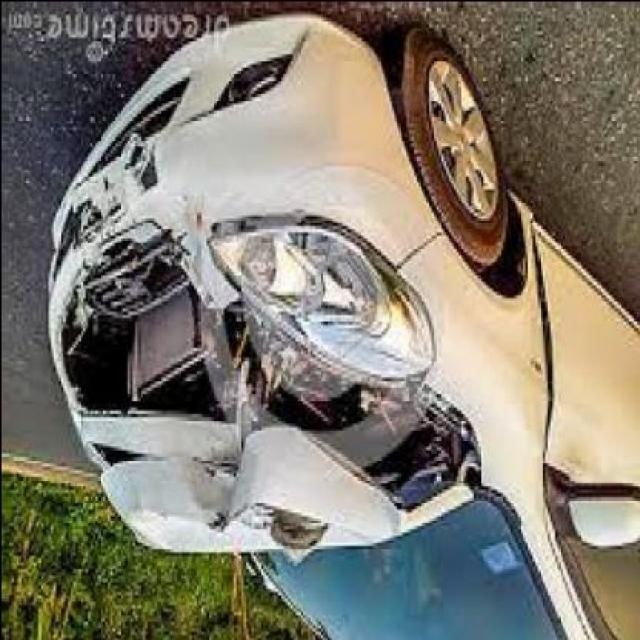damage: (48, 140, 479, 551)
